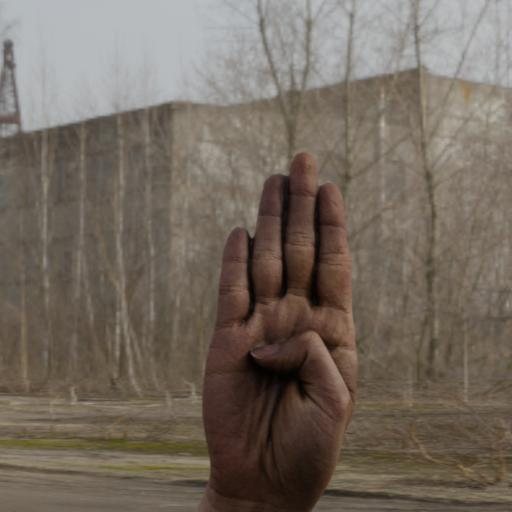B: (187, 146, 376, 506)
